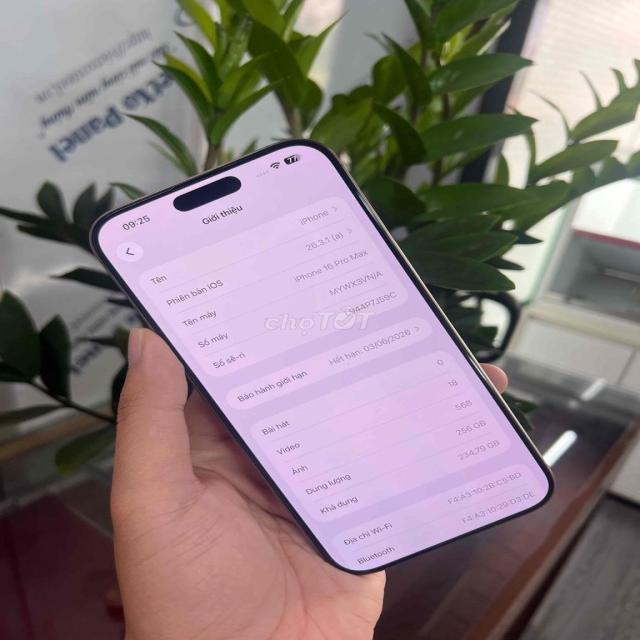gen_16: (91, 140, 552, 574)
